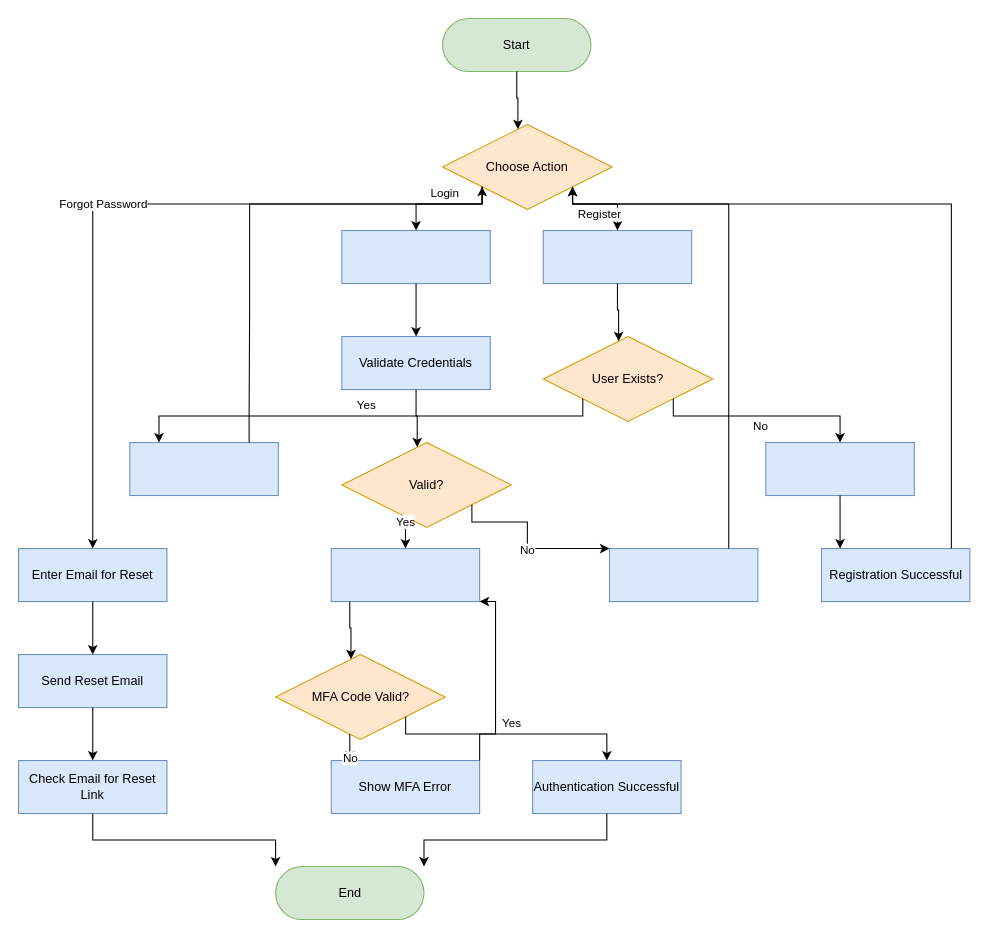
Some shapes in this 989 by 938 pixel diagram are drawn without their labels. The centre of each missing label's shape, as x and y in pixels:
"Create User Account" goes at (839,468).
"Enter New User Details" goes at (617,256).
"Enter Username/Password" goes at (415,256).
"Multi-Factor Authentication" goes at (405,574).
"Show Login Error" goes at (683,574).
"Show Registration Error" goes at (203,468).
